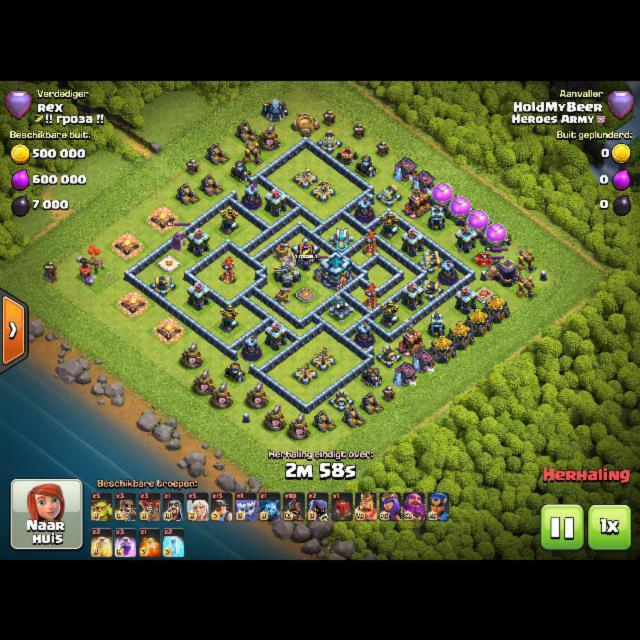AD: (219, 205, 239, 234), (379, 299, 399, 328), (219, 304, 238, 333), (380, 210, 399, 239)
AirSweeper: (273, 242, 292, 263), (273, 286, 292, 306)
BombTower: (428, 310, 444, 337), (428, 203, 444, 229)
Canon: (316, 129, 342, 153), (417, 249, 443, 273), (375, 344, 401, 367), (328, 388, 354, 411), (376, 183, 402, 206), (149, 273, 175, 295), (418, 277, 443, 299)
ClanCastle: (291, 236, 320, 269)
Eagle: (273, 252, 301, 286)
Inferno: (362, 283, 379, 309), (362, 229, 378, 255), (220, 256, 236, 282)
KingPad: (473, 286, 495, 303)
Mortar: (354, 154, 376, 177), (229, 159, 251, 182), (223, 361, 245, 383), (360, 366, 382, 387)
QueenPad: (472, 249, 496, 267)
RcPad: (296, 287, 314, 301)
Scattershot: (329, 295, 353, 322), (329, 226, 353, 250)
TH13: (319, 249, 352, 289)
WardenPad: (159, 255, 180, 270)
WizzTower: (355, 321, 374, 347), (242, 334, 261, 360), (242, 182, 261, 208), (355, 196, 374, 222), (438, 258, 457, 284)
Xbow: (310, 346, 336, 371), (292, 361, 318, 384), (310, 179, 336, 201), (292, 167, 318, 187)
